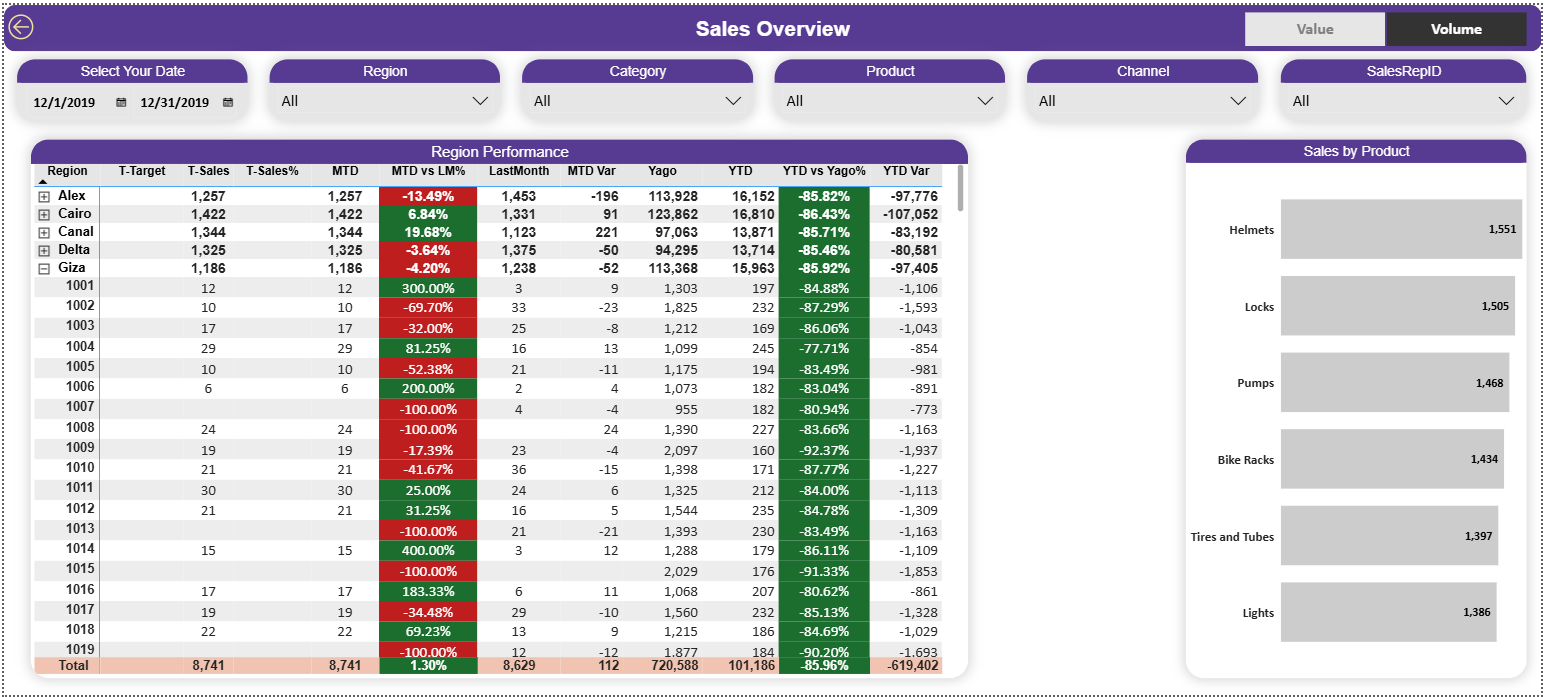

Layout of this report page (visuals, bound fields, positions):
{"tool":"powerbi","page":{"name":"Drill (Rep Per)","canvas":[2050,920],"ordinal":4},"visuals":[{"type":"clusteredBarChart","title":"Sales by Product","fields":{"Category":["Dim_Product.Product"],"Y":["Val_Or_Vol_PramT.Table_Val_Or_Vol"]},"box":[1574.7,178,455.8,719.8],"z":0},{"type":"pivotTable","title":"Region Performance","fields":{"Rows":["Dim_Region.Region","SalesData.SalesRepID"],"Values":["#Val_Or_Vol_PramT.T-Target","Val_Or_Vol_PramT.Table_Val_Or_Vol","#Val_Or_Vol_PramT.Taget% Sales","#Val_Or_Vol_PramT.MTD-Sales","#Val_Or_Vol_PramT.MTD vs LM%","#Val_Or_Vol_PramT.MTD-LM","#Val_Or_Vol_PramT.MTD Var","#Val_Or_Vol_PramT.Yago","#Val_Or_Vol_PramT.YTD","#Val_Or_Vol_PramT.YTD vs Yago%","#Val_Or_Vol_PramT.YTD Var"]},"box":[35.6,177.8,1251.1,720],"z":1000},{"type":"shape","box":[0,0,2050.3,61.7],"z":2000},{"type":"actionButton","box":[0,6.7,91.8,45],"z":3000},{"type":"slicer","fields":{"Values":["Val_Or_Vol_PramT.Option"]},"box":[1633.3,5.9,416.7,50.9],"z":4000},{"type":"slicer","title":"Region","fields":{"Values":["Dim_Region.Region"]},"box":[352.8,72,309,83],"z":5000},{"type":"slicer","title":"Product","fields":{"Values":["Dim_Product.Product"]},"box":[1027.2,72,309.1,82.2],"z":6000},{"type":"slicer","title":"Category","fields":{"Values":["Dim_Product.Category"]},"box":[689.7,72,309.7,82.3],"z":7000},{"type":"slicer","title":"Channel","fields":{"Values":["Channels.Channel"]},"box":[1364.1,72,309.7,83.9],"z":8000},{"type":"slicer","title":"Select Your Date","fields":{"Values":["Calender.Date"]},"box":[16,72,309,84],"z":9000},{"type":"slicer","title":"SalesRepID","fields":{"Values":["SalesData.SalesRepID"]},"box":[1701.6,72,329,83.9],"z":10000}]}

Visuals, with their boxes in screenshot pixels (x1, y1, x2, y2), scaled from the page's 2050x920 canvas onto the 1544x697 screenshot:
"Sales by Product" clusteredBarChart: 1186/135/1529/680
"Region Performance" pivotTable: 27/135/969/680
shape: 0/0/1543/47
actionButton: 0/5/69/39
slicer - Val_Or_Vol_PramT.Option: 1230/4/1543/43
"Region" slicer: 266/55/498/117
"Product" slicer: 774/55/1006/117
"Category" slicer: 519/55/753/117
"Channel" slicer: 1027/55/1261/118
"Select Your Date" slicer: 12/55/245/118
"SalesRepID" slicer: 1282/55/1529/118
